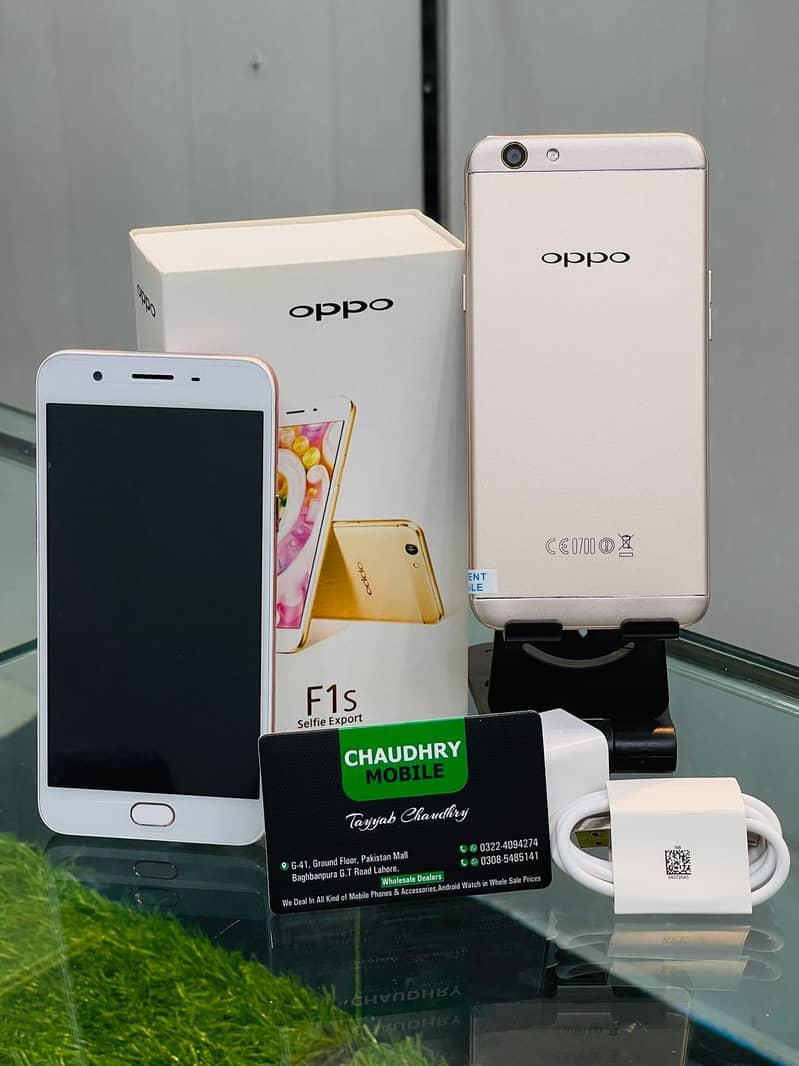Smart Phone: (35, 350, 276, 848)
